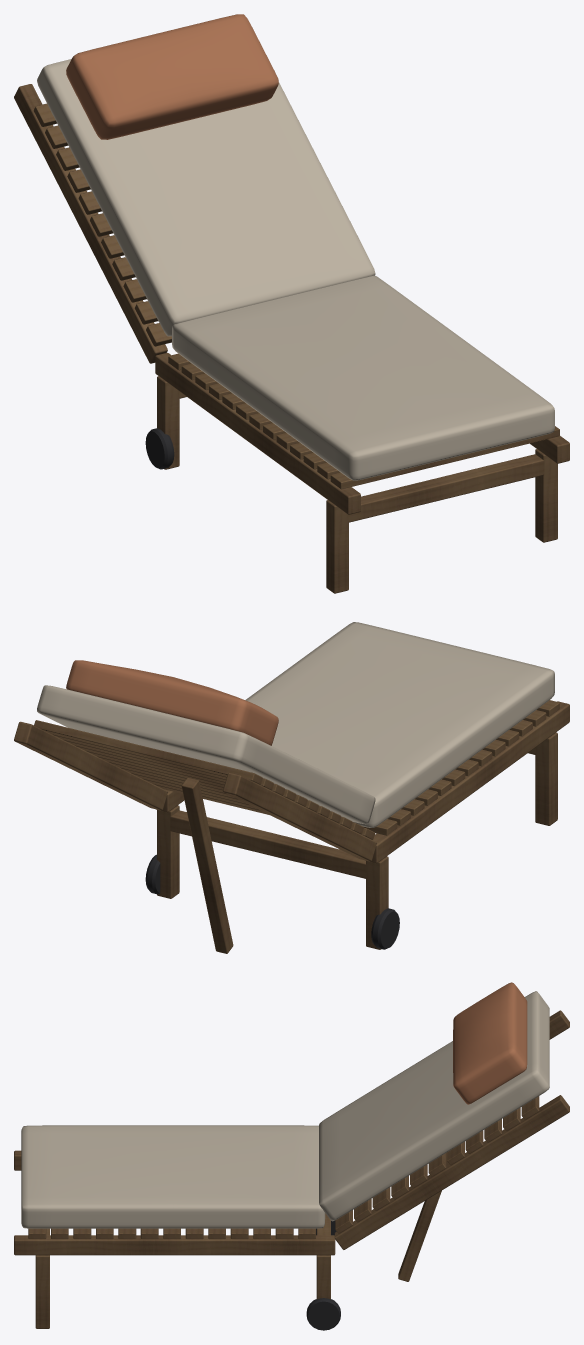
The model's file is courtyard_lounger.gltf.
3 renders of one model, top to bottom at view 1: azimuth 30°, elevation 25°; view 2: azimuth 150°, elevation 25°; view 3: azimuth 270°, elevation 25°, orthographic. The views are drawn at different scales.
Visible parts, largest first — view 1: CourtyardLounger_MattressBack, CourtyardLounger_MattressSeat, CourtyardLounger_Pillow, CourtyardLounger_RailL, CourtyardLounger_BackRailL, CourtyardLounger_CrossFoot, CourtyardLounger_LegFootL, CourtyardLounger_LegFootR, CourtyardLounger_LegHingeL, CourtyardLounger_Slat0, CourtyardLounger_WheelL; view 2: CourtyardLounger_MattressSeat, CourtyardLounger_MattressBack, CourtyardLounger_Pillow, CourtyardLounger_RailL, CourtyardLounger_CrossHinge, CourtyardLounger_BackRailR, CourtyardLounger_BackRailL, CourtyardLounger_Strut, CourtyardLounger_BackSlat10, CourtyardLounger_LegFootL, CourtyardLounger_LegHingeR, CourtyardLounger_LegHingeL (+10 smaller); view 3: CourtyardLounger_MattressSeat, CourtyardLounger_MattressBack, CourtyardLounger_Pillow, CourtyardLounger_RailR, CourtyardLounger_BackRailR, CourtyardLounger_Strut, CourtyardLounger_LegFootR, CourtyardLounger_WheelR, CourtyardLounger_LegHingeR.
Boxes of the visible parts, bbox=[...] form: CourtyardLounger_MattressBack: bbox=[37, 59, 375, 336]; CourtyardLounger_MattressSeat: bbox=[172, 275, 554, 480]; CourtyardLounger_Pillow: bbox=[66, 14, 278, 139]; CourtyardLounger_RailL: bbox=[155, 352, 360, 514]; CourtyardLounger_BackRailL: bbox=[14, 84, 167, 363]; CourtyardLounger_CrossFoot: bbox=[348, 454, 544, 522]; CourtyardLounger_LegFootL: bbox=[326, 500, 348, 593]; CourtyardLounger_LegFootR: bbox=[535, 449, 557, 542]; CourtyardLounger_LegHingeL: bbox=[157, 376, 179, 469]; CourtyardLounger_Slat0: bbox=[330, 426, 559, 489]; CourtyardLounger_WheelL: bbox=[145, 428, 174, 469]; CourtyardLounger_MattressSeat: bbox=[245, 622, 554, 827]; CourtyardLounger_MattressBack: bbox=[37, 685, 375, 824]; CourtyardLounger_Pillow: bbox=[66, 660, 278, 745]; CourtyardLounger_RailL: bbox=[365, 701, 569, 863]; CourtyardLounger_CrossHinge: bbox=[170, 810, 366, 878]; CourtyardLounger_BackRailR: bbox=[14, 721, 167, 810]; CourtyardLounger_BackRailL: bbox=[223, 772, 376, 861]; CourtyardLounger_Strut: bbox=[181, 777, 233, 953]; CourtyardLounger_BackSlat10: bbox=[34, 720, 262, 784]; CourtyardLounger_LegFootL: bbox=[535, 732, 557, 825]; CourtyardLounger_LegHingeR: bbox=[157, 805, 179, 898]; CourtyardLounger_LegHingeL: bbox=[366, 856, 388, 949]; CourtyardLounger_MattressSeat: bbox=[21, 1125, 325, 1228]; CourtyardLounger_MattressBack: bbox=[319, 991, 549, 1221]; CourtyardLounger_Pillow: bbox=[453, 982, 527, 1104]; CourtyardLounger_RailR: bbox=[14, 1235, 335, 1255]; CourtyardLounger_BackRailR: bbox=[334, 1095, 569, 1249]; CourtyardLounger_Strut: bbox=[398, 1152, 448, 1281]; CourtyardLounger_LegFootR: bbox=[35, 1255, 49, 1328]; CourtyardLounger_WheelR: bbox=[306, 1298, 340, 1330]; CourtyardLounger_LegHingeR: bbox=[316, 1255, 330, 1299].
Bounding box in the file's own units: 0.782 × 1.03 × 1.93.
Materials: 4 (1 with a texture image).
